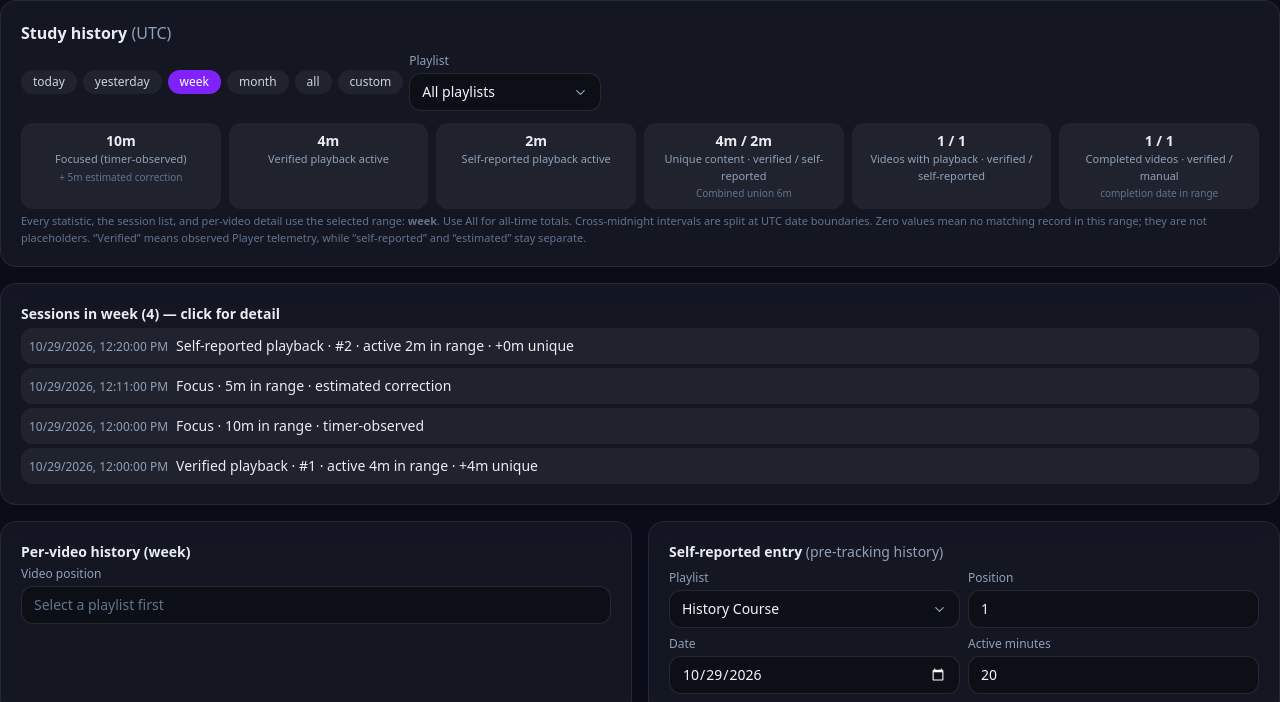
Test: History presentation and range scoping › keeps verified, self-reported, observed, and estimated evidence separate
Expected: the heading "Study history (UTC)" is shown, [21,22,171,44]
Expected: the text "+ 5m estimated correction" is shown, [59,170,182,184]
Session detail is human-readable, not raw JSON.
Click the button "Focus · 10m in range".
click(99, 426)  # box [29,416,1251,436]
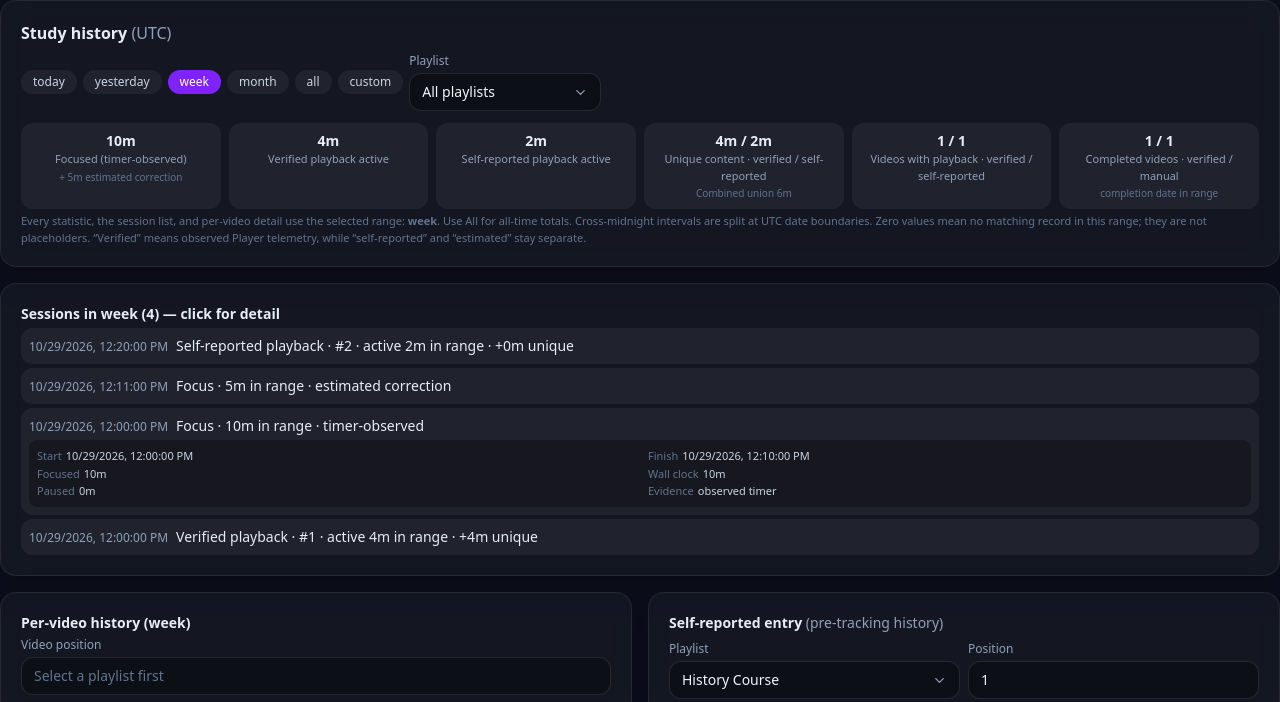
Result: the text "observed timer" is shown at [698,483,776,499]
